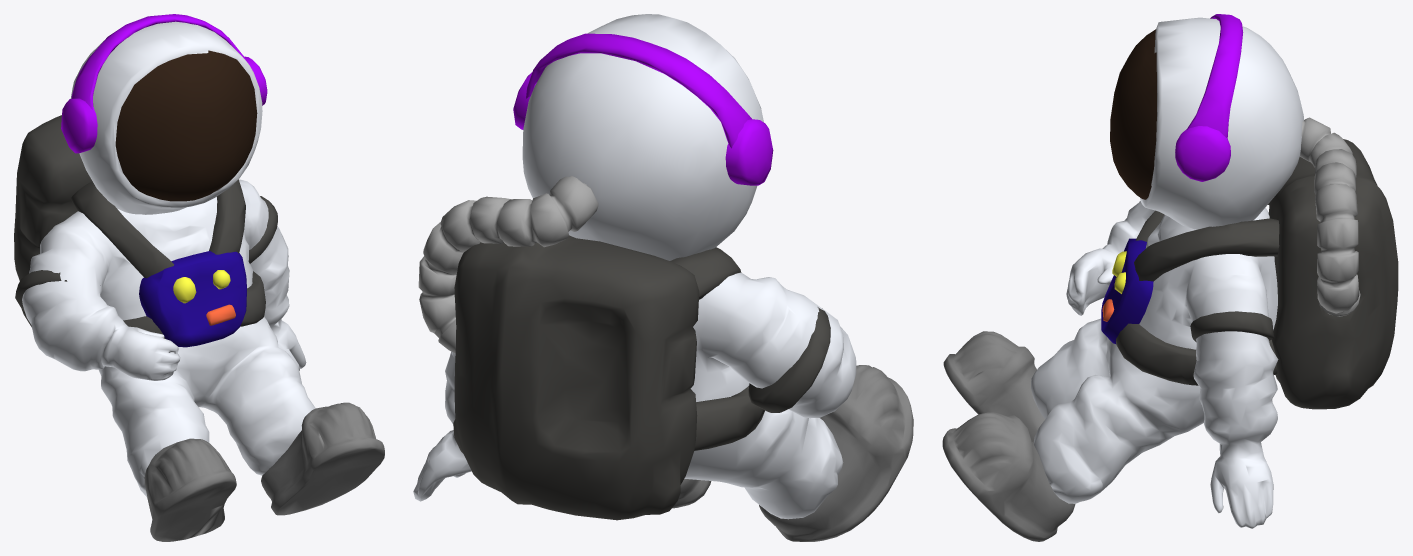
File: astronaut-Rigged.glb
The picture shows the model from 3 angles, left to right: view 1: azimuth 30°, elevation 25°; view 2: azimuth 150°, elevation 25°; view 3: azimuth 270°, elevation 25°; orthographic projection. The views are drawn at different scales.
Parts seen in each view (by area): view 1: uploads_files_2961386_astronaut_fix_high.001, uploads_files_2961386_astronaut_fix_high.020, uploads_files_2961386_astronaut_fix_high.018, uploads_files_2961386_astronaut_fix_high.004, uploads_files_2961386_astronaut_fix_high.010, uploads_files_2961386_astronaut_fix_high.009, uploads_files_2961386_astronaut_fix_high.002, uploads_files_2961386_astronaut_fix_high.008; view 2: uploads_files_2961386_astronaut_fix_high.001, uploads_files_2961386_astronaut_fix_high.010, uploads_files_2961386_astronaut_fix_high.018, uploads_files_2961386_astronaut_fix_high.011, uploads_files_2961386_astronaut_fix_high.002, uploads_files_2961386_astronaut_fix_high.004; view 3: uploads_files_2961386_astronaut_fix_high.001, uploads_files_2961386_astronaut_fix_high.010, uploads_files_2961386_astronaut_fix_high.018, uploads_files_2961386_astronaut_fix_high.004, uploads_files_2961386_astronaut_fix_high.011, uploads_files_2961386_astronaut_fix_high.020, uploads_files_2961386_astronaut_fix_high.002, uploads_files_2961386_astronaut_fix_high.009.
Part boxes in pixels (x1,y1,x2,y2): uploads_files_2961386_astronaut_fix_high.001: (22, 21, 315, 497); uploads_files_2961386_astronaut_fix_high.020: (115, 50, 257, 201); uploads_files_2961386_astronaut_fix_high.018: (144, 402, 384, 541); uploads_files_2961386_astronaut_fix_high.004: (15, 179, 277, 338); uploads_files_2961386_astronaut_fix_high.010: (14, 115, 92, 327); uploads_files_2961386_astronaut_fix_high.009: (139, 251, 246, 347); uploads_files_2961386_astronaut_fix_high.002: (61, 14, 267, 153); uploads_files_2961386_astronaut_fix_high.008: (173, 270, 230, 303); uploads_files_2961386_astronaut_fix_high.001: (413, 14, 856, 519); uploads_files_2961386_astronaut_fix_high.010: (453, 235, 699, 520); uploads_files_2961386_astronaut_fix_high.018: (672, 365, 913, 541); uploads_files_2961386_astronaut_fix_high.011: (418, 175, 598, 353); uploads_files_2961386_astronaut_fix_high.002: (513, 33, 773, 185); uploads_files_2961386_astronaut_fix_high.004: (670, 247, 830, 450); uploads_files_2961386_astronaut_fix_high.001: (1031, 17, 1303, 528); uploads_files_2961386_astronaut_fix_high.010: (1268, 139, 1398, 409); uploads_files_2961386_astronaut_fix_high.018: (942, 331, 1075, 541); uploads_files_2961386_astronaut_fix_high.004: (1116, 203, 1279, 385); uploads_files_2961386_astronaut_fix_high.011: (1299, 117, 1360, 316); uploads_files_2961386_astronaut_fix_high.020: (1110, 29, 1156, 199); uploads_files_2961386_astronaut_fix_high.002: (1175, 14, 1243, 181); uploads_files_2961386_astronaut_fix_high.009: (1101, 238, 1153, 343).
Size of the model in its own units: 2.48 by 3.46 by 2.98.
